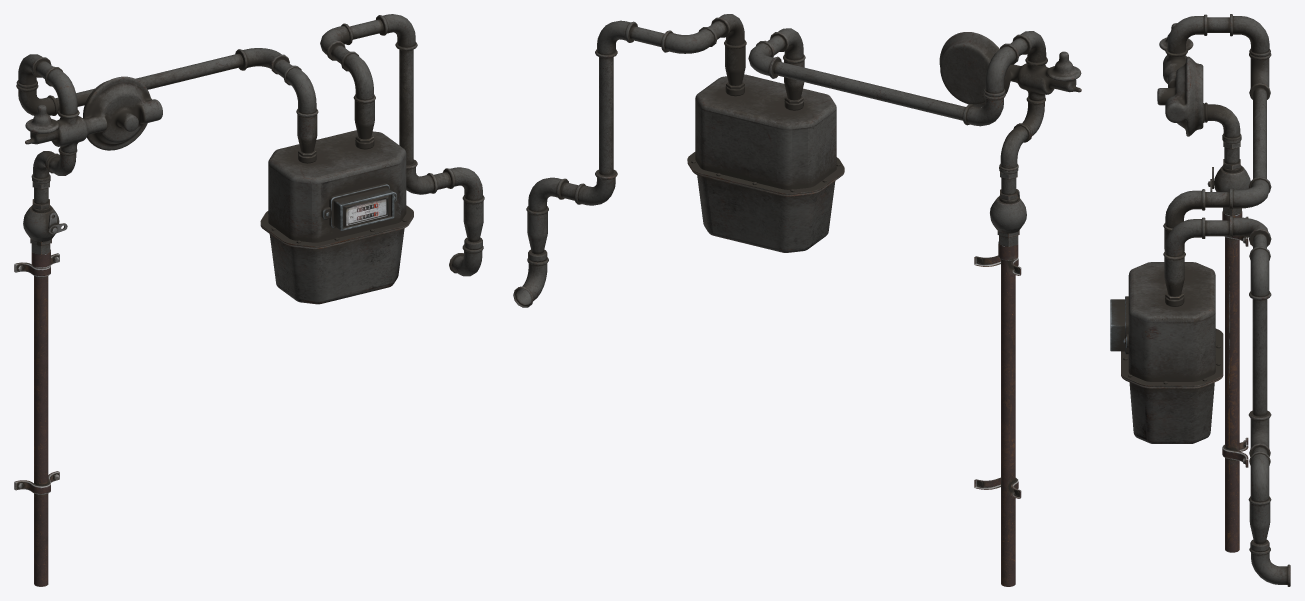
Rendered from gas_meter_7_mb.glb.
3 views of the same model, side by side, from view 1: azimuth 30°, elevation 25°; view 2: azimuth 150°, elevation 25°; view 3: azimuth 270°, elevation 25° (orthographic). The views are drawn at different scales.
Visible parts, largest first — view 1: Cloner; view 2: Cloner; view 3: Cloner.
Boxes of the visible parts, bbox=[...] form: Cloner: bbox=[14, 14, 484, 586]; Cloner: bbox=[513, 14, 1081, 586]; Cloner: bbox=[1110, 14, 1290, 586].
Bounding box in the file's own units: 190 × 191 × 58.44.
1 material, 1 textured.
